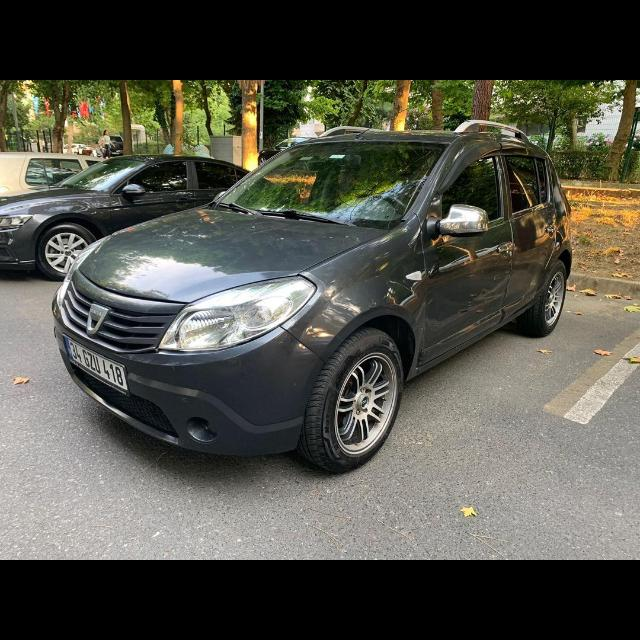Plaka: (66, 338, 128, 392)
